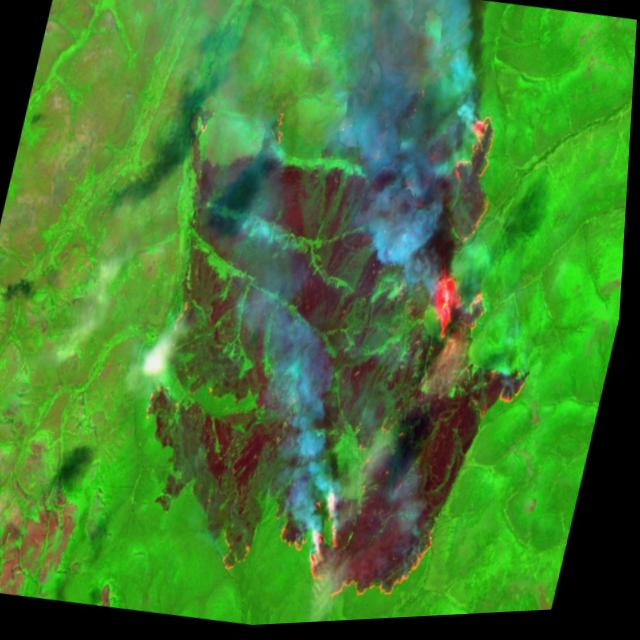fire: (100, 54, 600, 635)
